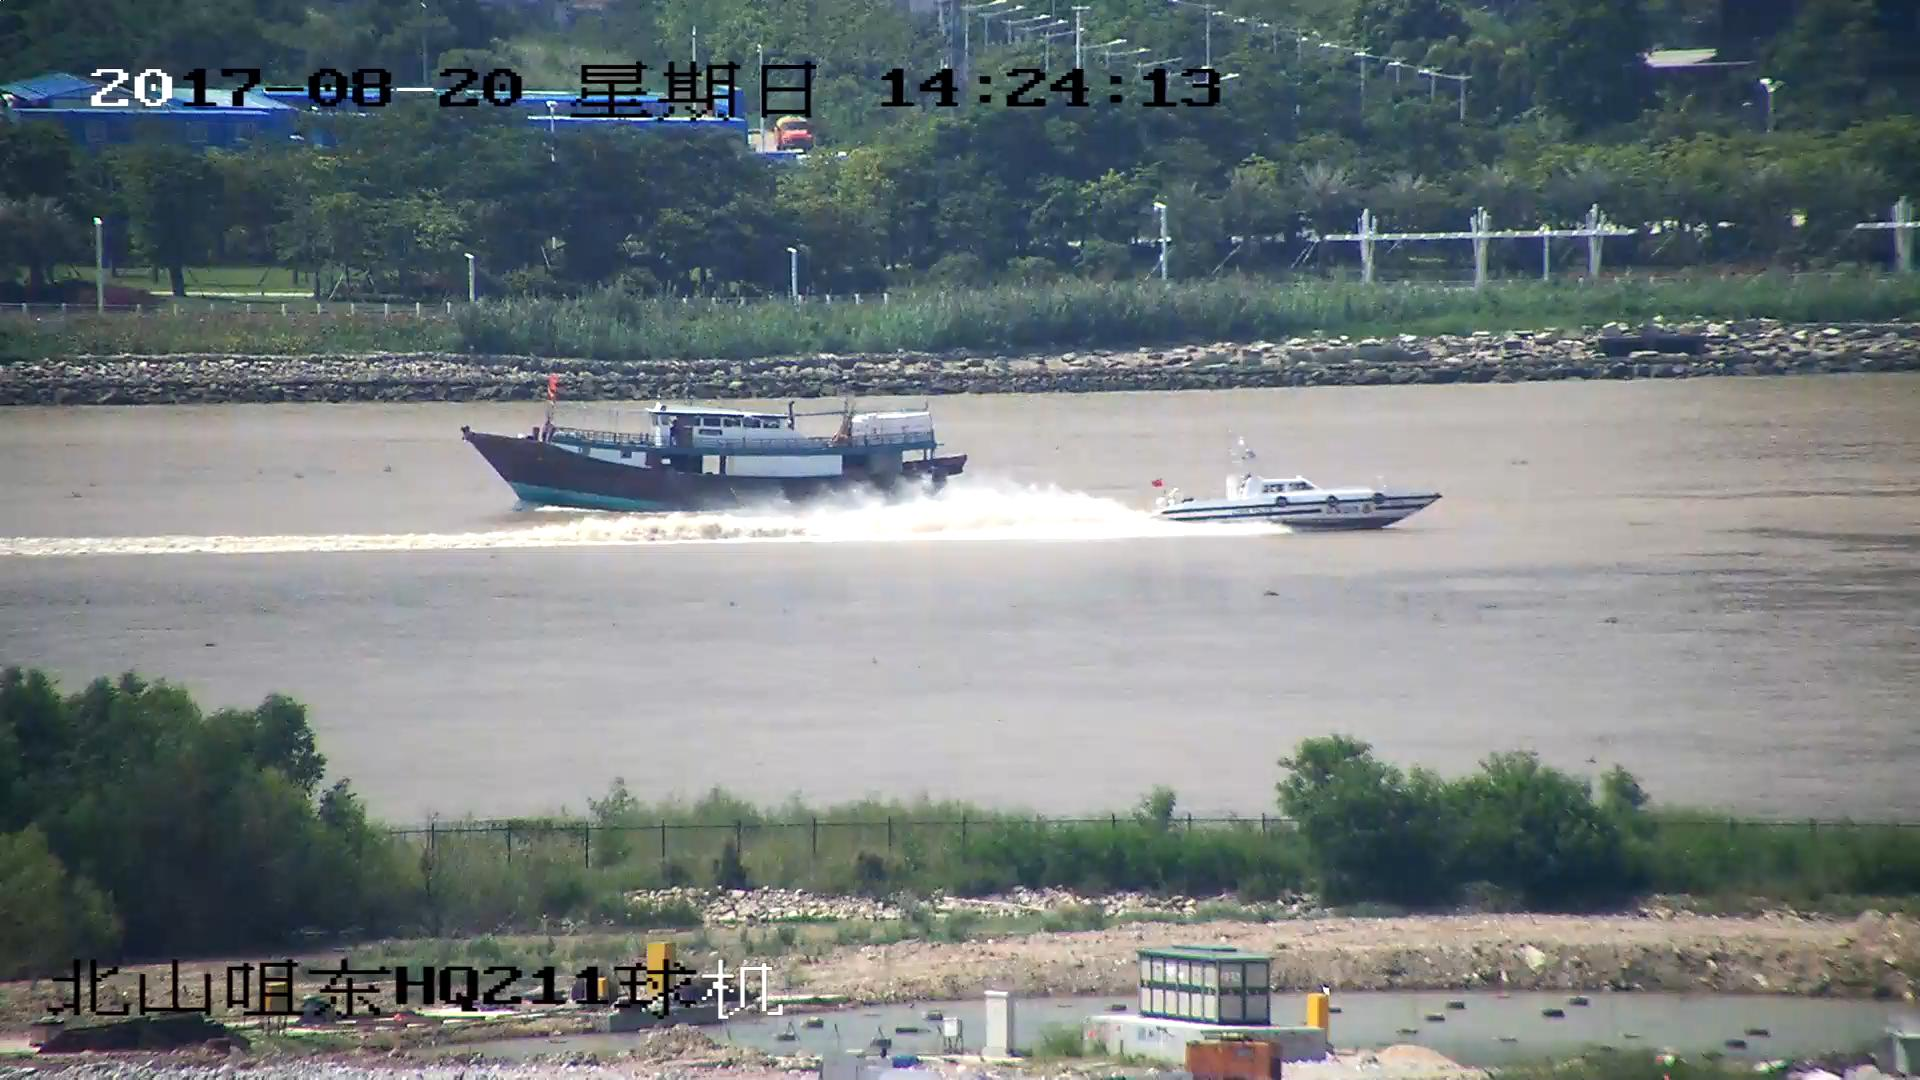fishing boat: (465, 384, 970, 515)
passenger ship: (1139, 454, 1445, 531)
